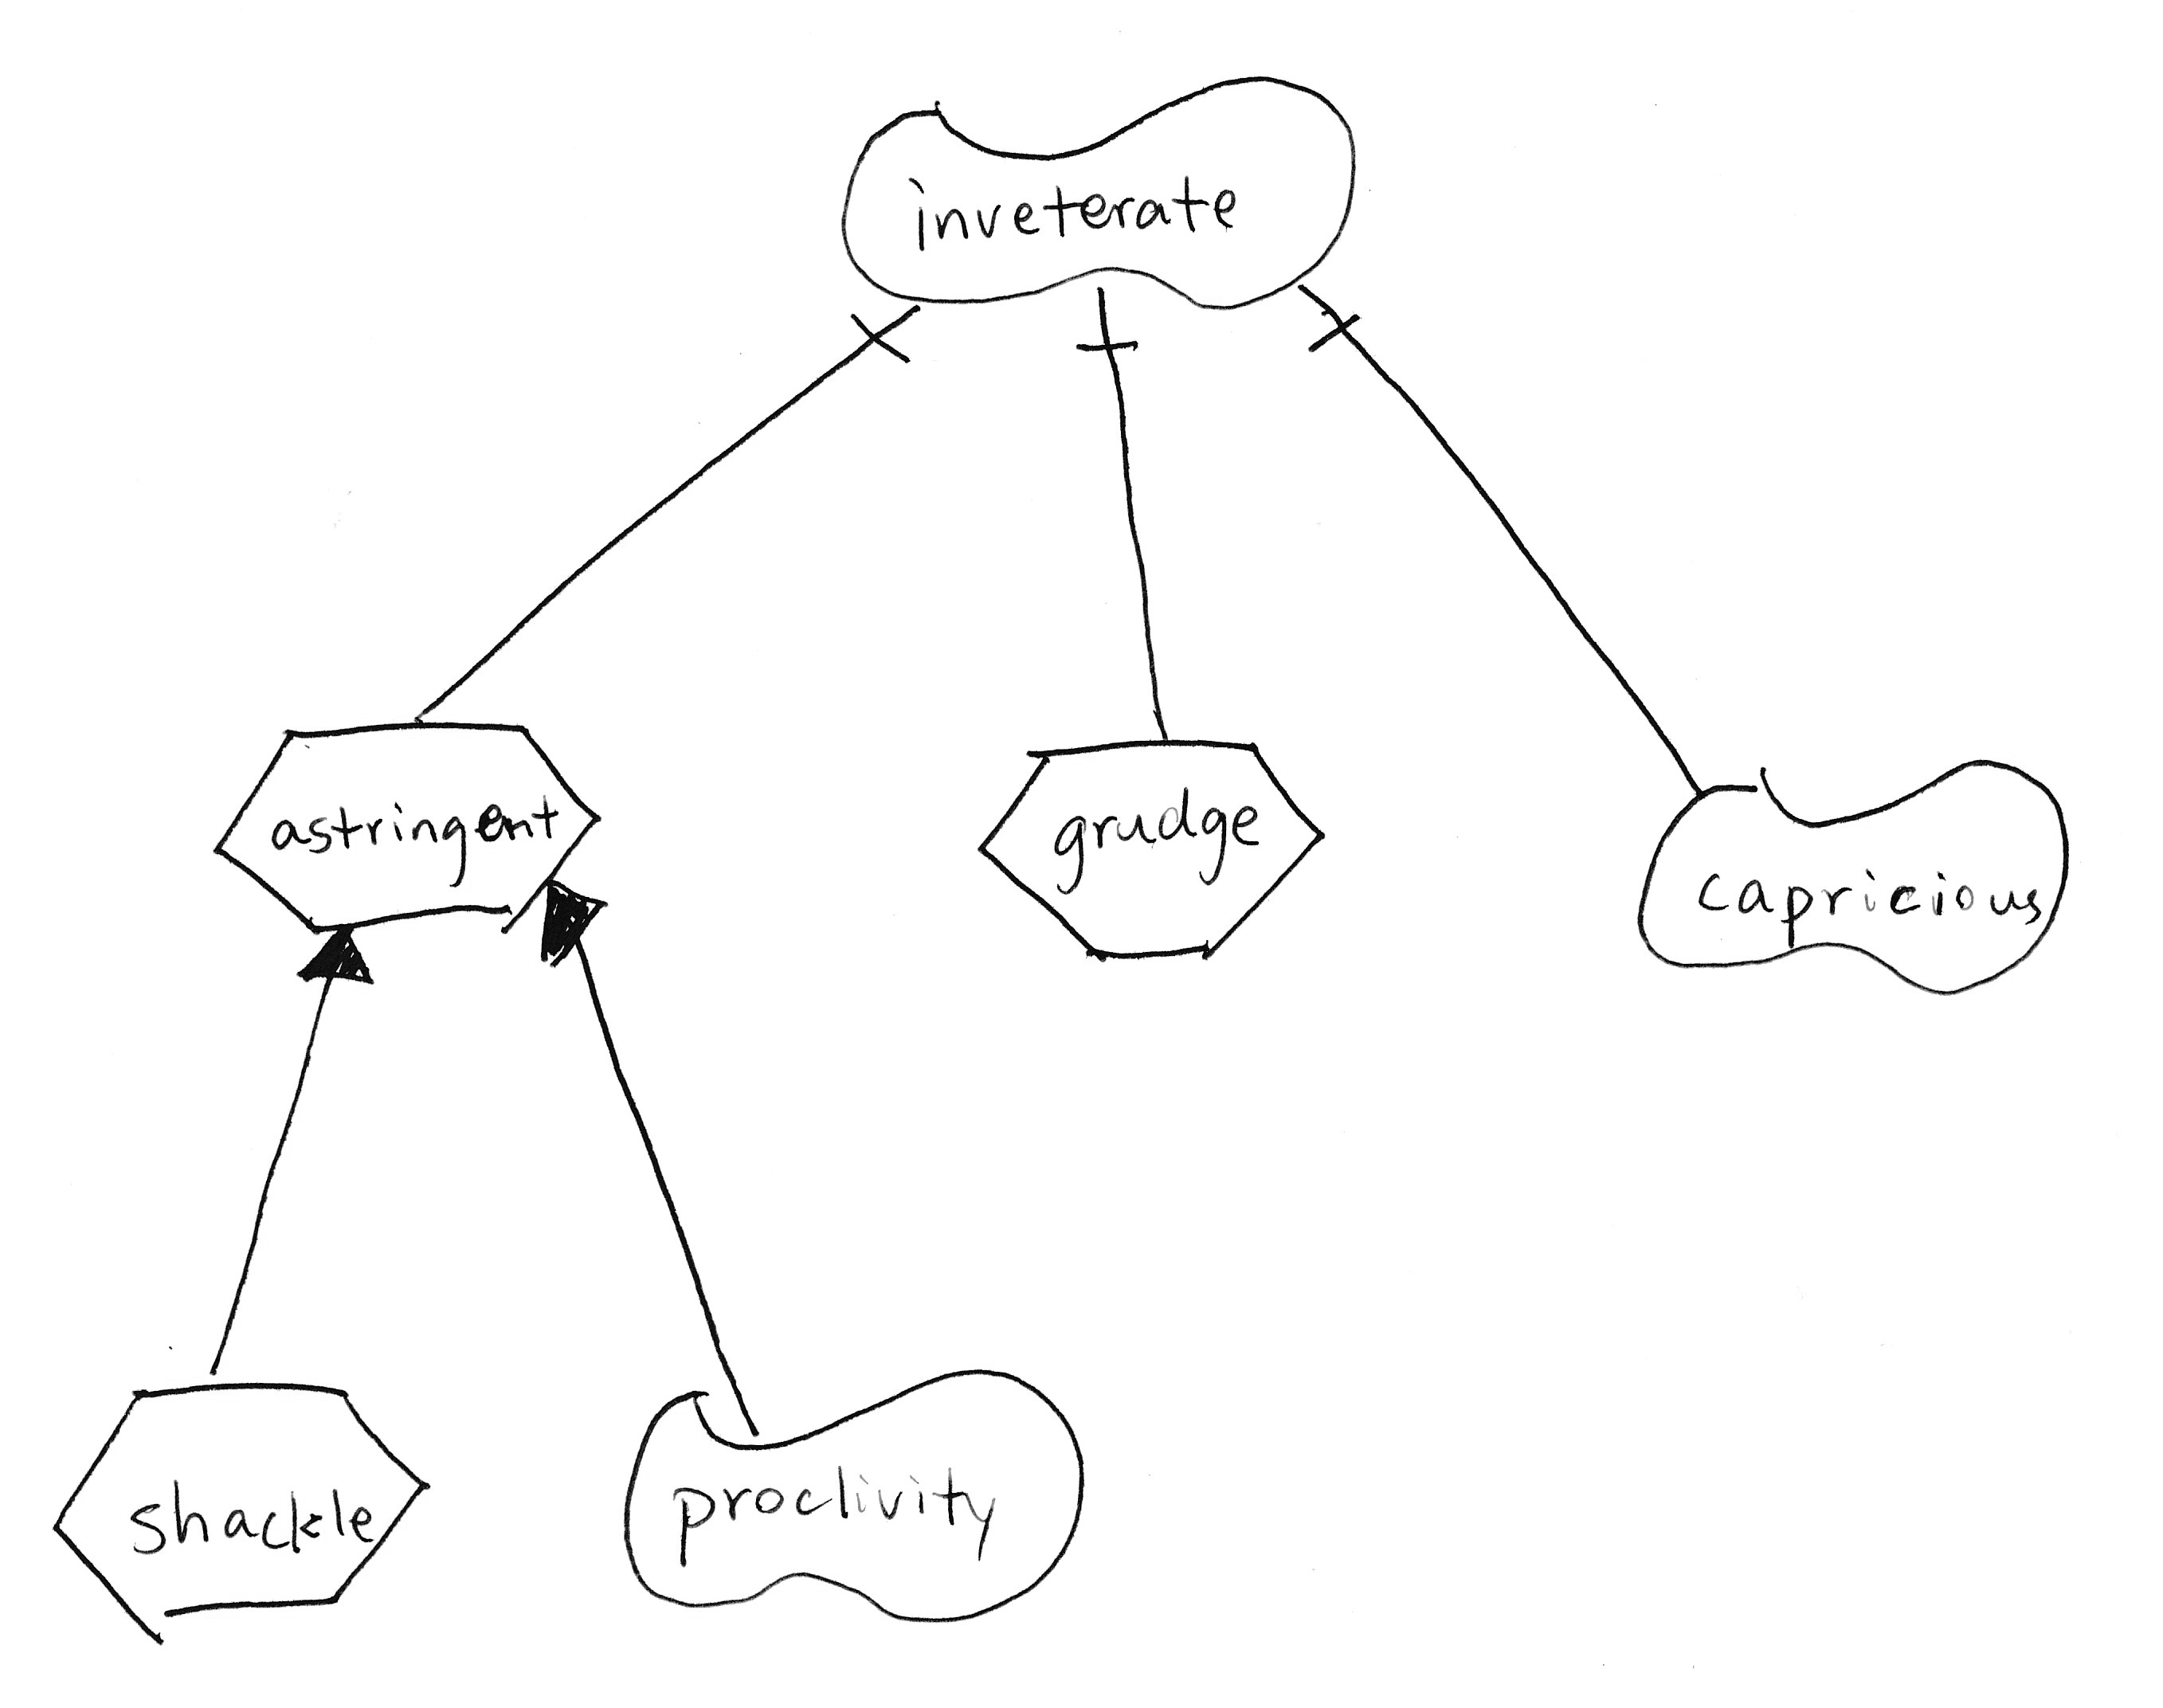and: (1273, 267, 1380, 369), (829, 293, 934, 374), (1060, 277, 1146, 363)
or: (511, 867, 623, 976), (281, 911, 390, 999)
quality: (818, 54, 1375, 334), (588, 1350, 1106, 1643), (1613, 736, 2088, 1001)
task: (184, 699, 636, 957), (44, 1362, 442, 1641), (959, 725, 1336, 980)
